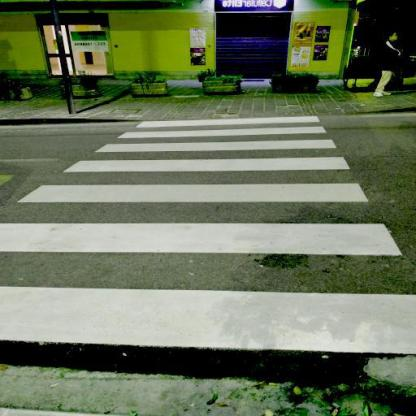crosswalk: (0, 214, 413, 359), (58, 136, 354, 176)
